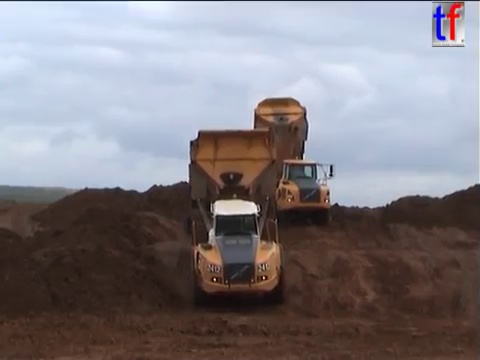truck: (184, 126, 290, 309), (250, 95, 336, 227)
